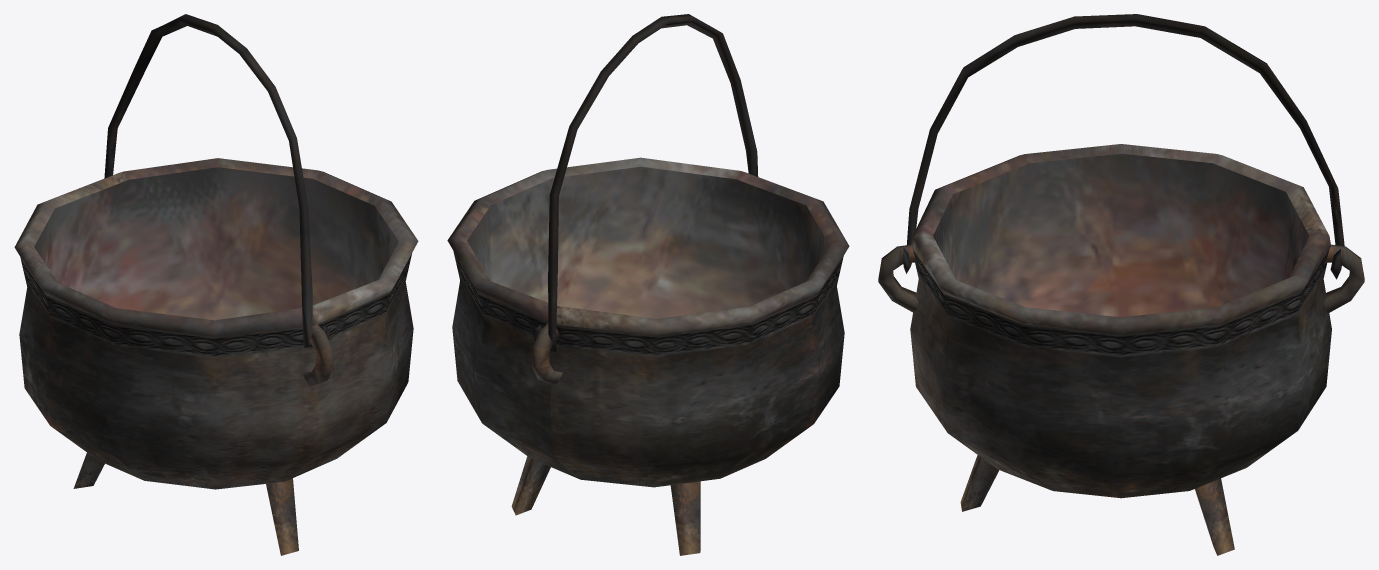
The model's file is pot.dae.
3 views of the same model, side by side, from view 1: azimuth 30°, elevation 25°; view 2: azimuth 150°, elevation 25°; view 3: azimuth 270°, elevation 25° (orthographic). The views are drawn at different scales.
Parts seen in each view (by area): view 1: pot, handle; view 2: pot, handle; view 3: pot, handle.
Boxes of the visible parts, left/top/right/bottom form: pot: left=14, top=158, right=418, bottom=555; handle: left=104, top=14, right=330, bottom=348; pot: left=447, top=157, right=849, bottom=555; handle: left=532, top=14, right=758, bottom=351; pot: left=878, top=144, right=1364, bottom=555; handle: left=903, top=14, right=1344, bottom=279.
Size of the model in its own units: 0.4506 by 0.573 by 0.5069.
